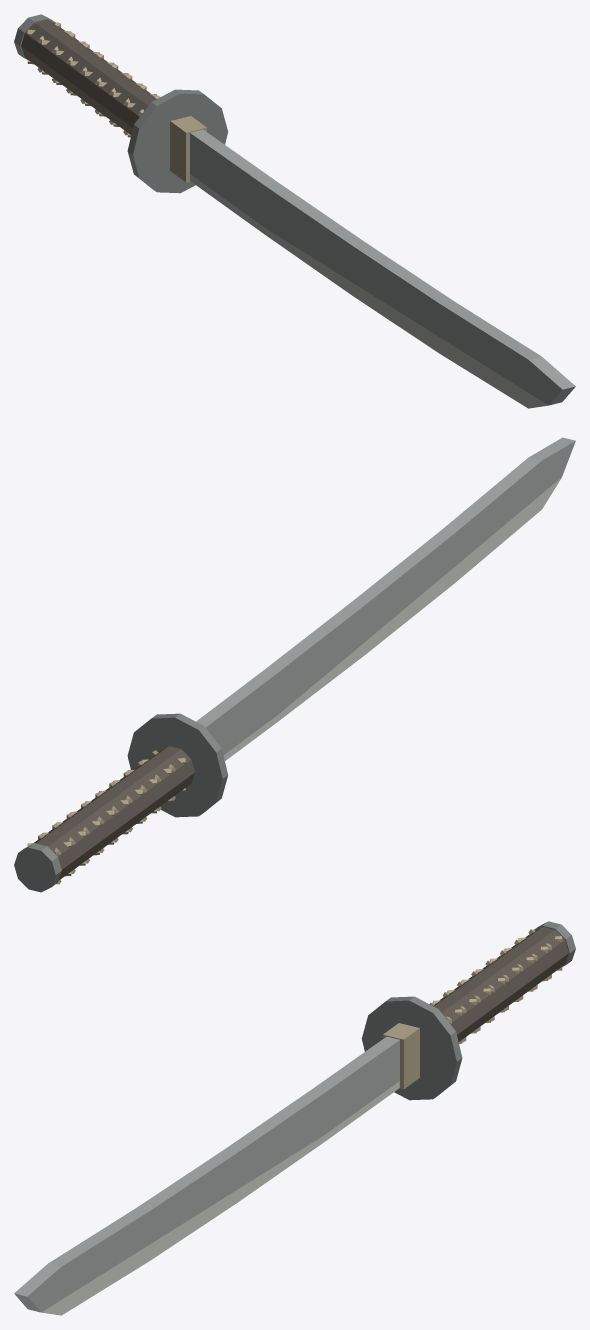
Rendered from sword_guard_r2.glb.
3 renders of one model, top to bottom at view 1: azimuth 30°, elevation 25°; view 2: azimuth 150°, elevation 25°; view 3: azimuth 330°, elevation 25°, orthographic.
Bounding box in the file's own units: 0.1 × 0.1 × 0.972.
